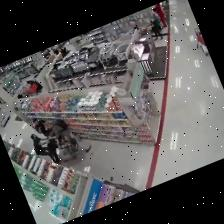person: (45, 119, 77, 146), (31, 135, 56, 162), (33, 119, 51, 136), (48, 139, 60, 163), (151, 20, 163, 39)
